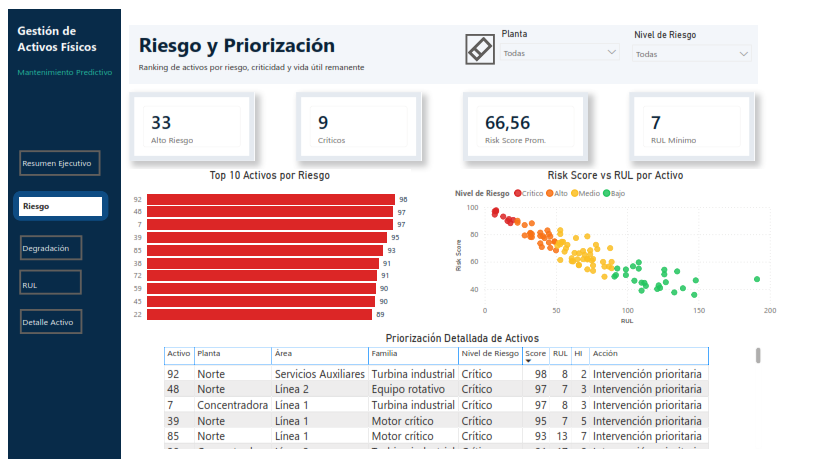

What the dashboard file says about the page in this screenshot:
{"tool":"powerbi","page":{"name":"Riesgo/Priorización","canvas":[1280,720],"ordinal":1},"visuals":[{"type":"shape","box":[0,0,180.3,719.7],"z":0},{"type":"textbox","box":[17.5,232.7,129.6,29.3],"z":0,"group":"g2"},{"type":"shape","box":[7.5,291.2,152.9,47.7],"z":0,"group":"g1"},{"type":"textbox","box":[17.5,368.5,129.6,29.3],"z":0,"group":"g3"},{"type":"textbox","box":[17.5,427.6,129.6,29.3],"z":0,"group":"g4"},{"type":"textbox","box":[17.5,486.7,132.1,29.3],"z":0,"group":"g5"},{"type":"textbox","box":[9.8,17.1,170,61.1],"z":1000},{"type":"textbox","box":[18.8,300.7,129.6,29.3],"z":1000,"group":"g1"},{"type":"textbox","box":[9.8,86.8,170,40.4],"z":2000},{"type":"group","id":"g1","title":"Grupo 1","box":[7.5,291.2,152.5,47.5],"z":3000},{"type":"group","id":"g2","title":"Grupo 1","box":[17.5,232.7,130,28.8],"z":4000},{"type":"group","id":"g3","title":"Grupo 1","box":[17.5,368.5,129.6,29.3],"z":5000},{"type":"group","id":"g4","title":"Grupo 1","box":[17.5,427.6,129.6,29.3],"z":6000},{"type":"group","id":"g5","title":"Grupo 1","box":[17.5,486.7,132.1,29.3],"z":7000},{"type":"shape","box":[194.3,27.1,1004.3,91.4],"z":8000},{"type":"textbox","box":[203.8,28.8,337.5,58.8],"z":9000},{"type":"textbox","box":[204.2,78.3,492.8,40.4],"z":10000},{"type":"slicer","fields":{"Values":["dim_engine.site"]},"box":[777.1,27.1,211.4,60],"z":11000},{"type":"slicer","fields":{"Values":["dim_engine.current_risk_level"]},"box":[988.6,28.6,211.4,60],"z":12000},{"type":"cardVisual","fields":{"Data":["Medidas.Activos Alto Riesgo"]},"box":[194.3,132.9,200,110],"z":13000},{"type":"cardVisual","fields":{"Data":["Medidas.Activos Críticos"]},"box":[461,132.9,200,110],"z":14000},{"type":"cardVisual","fields":{"Data":["Medidas.RUL Mínimo"]},"box":[994.3,132.9,200,110],"z":15000},{"type":"cardVisual","fields":{"Data":["Medidas.Risk Score Promedio"]},"box":[727.6,132.9,200,110],"z":16000},{"type":"clusteredBarChart","title":"Top 10 Activos por Riesgo","fields":{"Category":["dim_engine.engine_id"],"Y":["Max(dim_engine.current_risk_score)"]},"box":[194.3,255.7,450,254.3],"z":17000},{"type":"scatterChart","title":"Risk Score vs RUL por Activo","fields":{"Y":["Medidas.Risk Score"],"X":["Medidas.RUL Actual"],"Category":["dim_engine.engine_id"],"Series":["dim_engine.current_risk_level"]},"box":[710,255.7,524.3,254.3],"z":18000},{"type":"tableEx","title":"Priorización Detallada de Activos","fields":{"Values":["dim_engine.engine_id","dim_engine.Planta Visual","dim_engine.area","dim_engine.asset_family","dim_engine.current_risk_level","dim_engine.current_risk_score","dim_engine.current_rul","dim_engine.current_health_index","dim_engine.current_recommended_action"]},"box":[244.3,517.1,965.7,191.4],"z":19000},{"type":"actionButton","box":[19.4,479.8,99.8,40.2],"z":20000},{"type":"actionButton","box":[17.9,417.2,99.8,40.2],"z":21000},{"type":"actionButton","box":[19.4,362.1,99.8,40.2],"z":22000},{"type":"actionButton","box":[17.9,226.5,129.6,40.2],"z":23000},{"type":"actionButton","box":[732.3,39.6,47.2,49.1],"z":24000}]}

Visuals, with their boxes on the page's 1280x720 design canvas (x1, y1, x2, y2). These are canvas units, not pixel positions in the 815x466 screenshot, which may show the page scaled, cropped or inside an application window:
shape: 0 0 180 720
textbox: 18 233 147 262
shape: 8 291 160 339
textbox: 18 368 147 398
textbox: 18 428 147 457
textbox: 18 487 150 516
textbox: 10 17 180 78
textbox: 19 301 148 330
textbox: 10 87 180 127
"Grupo 1" group: 8 291 160 339
"Grupo 1" group: 18 233 148 262
"Grupo 1" group: 18 368 147 398
"Grupo 1" group: 18 428 147 457
"Grupo 1" group: 18 487 150 516
shape: 194 27 1199 118
textbox: 204 29 541 88
textbox: 204 78 697 119
slicer - dim_engine.site: 777 27 988 87
slicer - dim_engine.current_risk_level: 989 29 1200 89
cardVisual - Medidas.Activos Alto Riesgo: 194 133 394 243
cardVisual - Medidas.Activos Críticos: 461 133 661 243
cardVisual - Medidas.RUL Mínimo: 994 133 1194 243
cardVisual - Medidas.Risk Score Promedio: 728 133 928 243
"Top 10 Activos por Riesgo" clusteredBarChart: 194 256 644 510
"Risk Score vs RUL por Activo" scatterChart: 710 256 1234 510
"Priorización Detallada de Activos" tableEx: 244 517 1210 708
actionButton: 19 480 119 520
actionButton: 18 417 118 457
actionButton: 19 362 119 402
actionButton: 18 226 148 267
actionButton: 732 40 780 89
